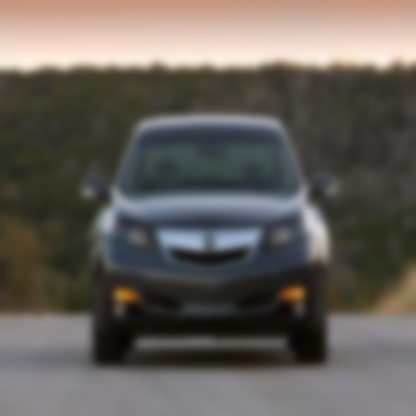Vehicle: (63, 98, 350, 402)
